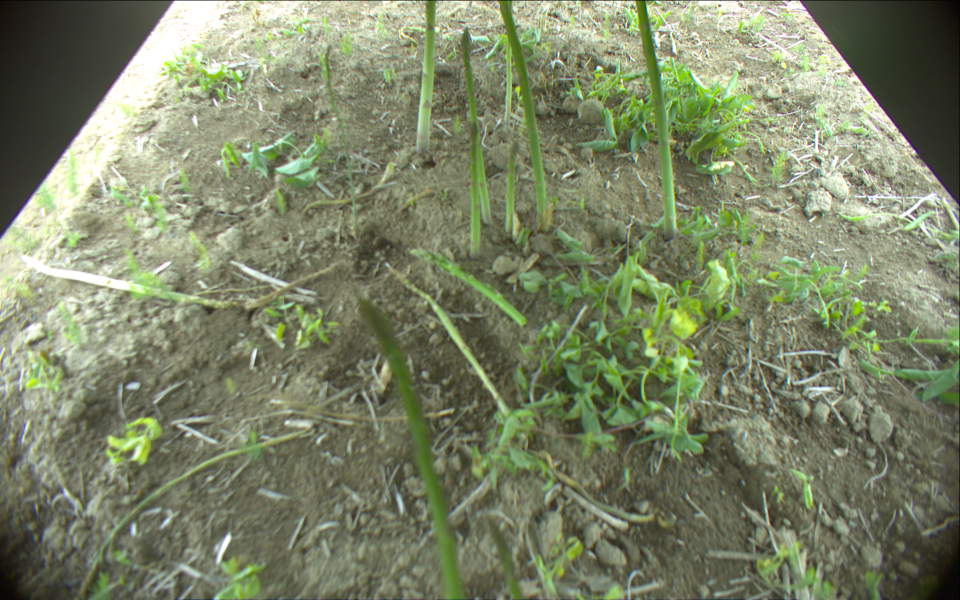aspa: (70, 426, 310, 600), (358, 293, 467, 600), (386, 263, 512, 422), (498, 1, 548, 231), (25, 256, 233, 309), (633, 1, 678, 241), (410, 247, 525, 322), (460, 27, 491, 227), (460, 27, 491, 225), (326, 45, 358, 234), (413, 1, 438, 156), (488, 519, 521, 600), (502, 140, 521, 240), (505, 37, 513, 126)
